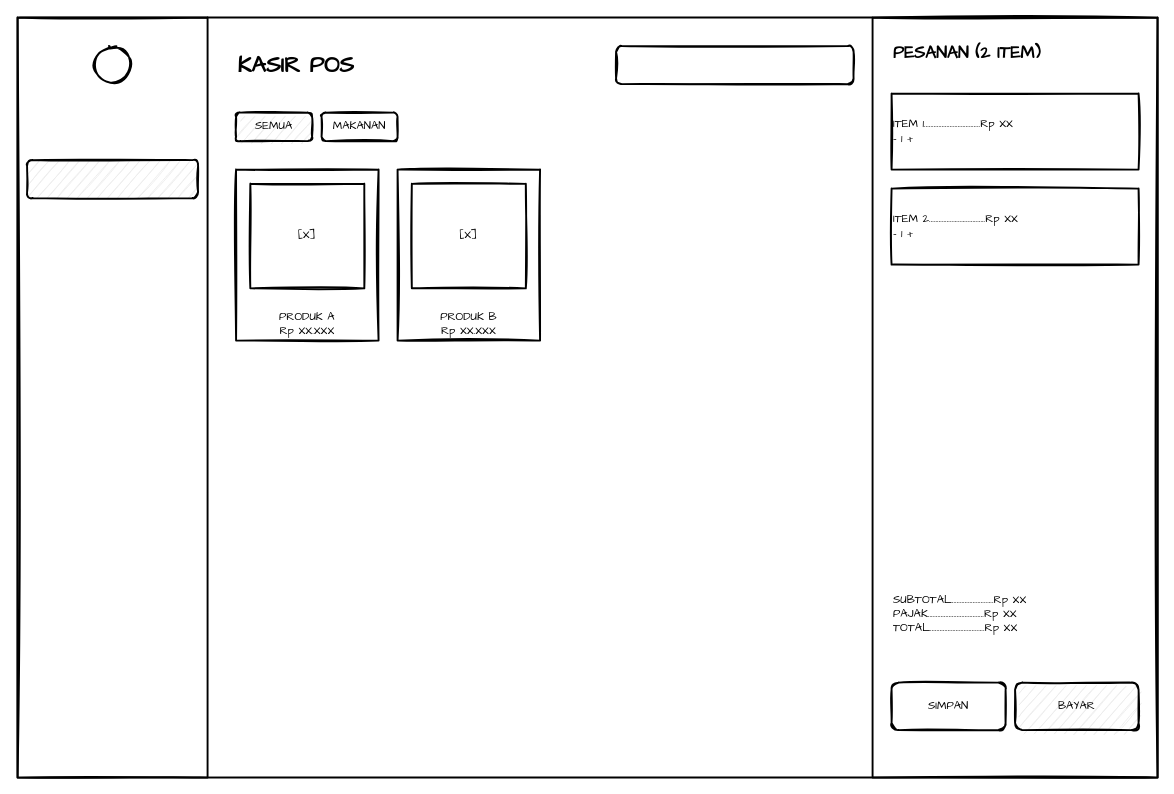
Some shapes in this 1174 by 794 pixel diagram are drawn without their labels. Here are the shapes that lost their labels. From the top down, the box of each, then its label:
(92, 45, 132, 85): LOGO
(615, 45, 854, 85): CARI MENU...
(26, 159, 199, 199): KASIR
